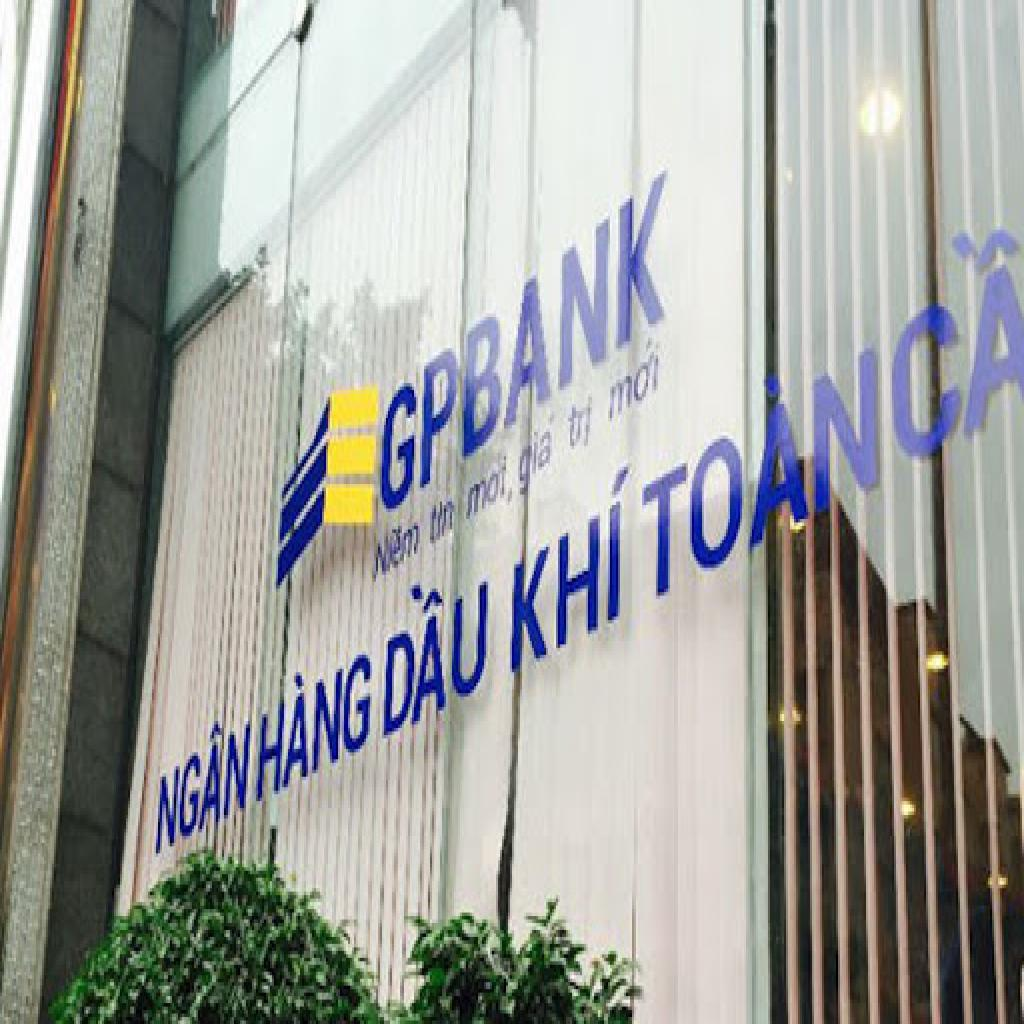text: (382, 132, 682, 526), (638, 293, 890, 620), (504, 446, 636, 693), (378, 533, 496, 752), (258, 620, 374, 812), (150, 690, 258, 867), (606, 324, 670, 432), (368, 502, 424, 596), (462, 439, 516, 533), (518, 404, 564, 505), (564, 383, 598, 463), (428, 484, 460, 554)
